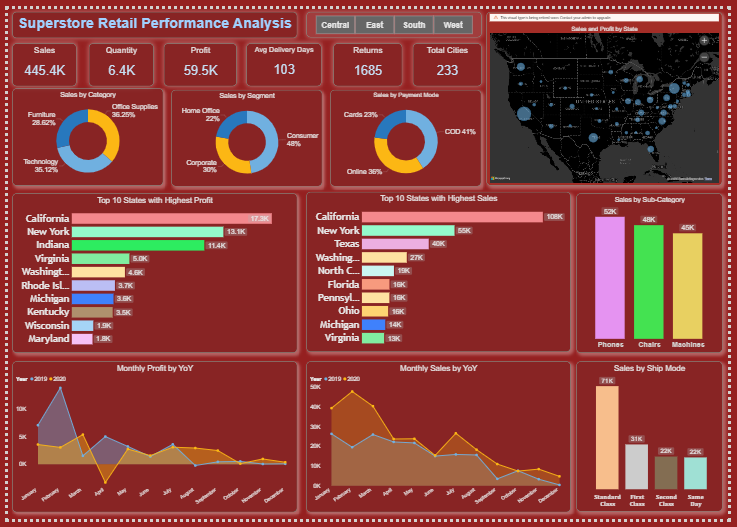

This screenshot's page, from the dashboard's own definition file:
{"tool":"powerbi","page":{"name":"Dashboard","canvas":[2400,1700],"ordinal":0},"visuals":[{"type":"donutChart","title":"Sales by Category","fields":{"Category":["SuperStore_Sales_Dataset.Category"],"Y":["Sum(SuperStore_Sales_Dataset.Sales)"]},"box":[15.8,265.4,501.9,323.2],"z":0},{"type":"clusteredColumnChart","title":"Sales by Sub-Category","fields":{"Category":["SuperStore_Sales_Dataset.Sub-Category"],"Y":["Sum(SuperStore_Sales_Dataset.Sales)"]},"box":[1894.4,614.8,486.1,530.8],"z":1000},{"type":"clusteredColumnChart","title":"Sales by Ship Mode","fields":{"Category":["SuperStore_Sales_Dataset.Ship Mode"],"Y":["Sum(SuperStore_Sales_Dataset.Sales)"]},"box":[1894.4,1174.5,486.1,499.2],"z":2000},{"type":"areaChart","title":"Monthly Sales by YoY ","fields":{"Y":["Sum(SuperStore_Sales_Dataset.Sales)"],"Category":["SuperStore_Sales_Dataset.Order Date.Variation.Date Hierarchy.Month","SuperStore_Sales_Dataset.Order Date.Variation.Date Hierarchy.Day"],"Series":["SuperStore_Sales_Dataset.Order Date.Variation.Date Hierarchy.Year"]},"box":[993.2,1174.5,880.2,501.9],"z":3000},{"type":"areaChart","title":"Monthly Profit by YoY ","fields":{"Category":["SuperStore_Sales_Dataset.Order Date.Variation.Date Hierarchy.Month","SuperStore_Sales_Dataset.Order Date.Variation.Date Hierarchy.Day"],"Series":["SuperStore_Sales_Dataset.Order Date.Variation.Date Hierarchy.Year"],"Y":["Sum(SuperStore_Sales_Dataset.Profit)"]},"box":[15.8,1174.5,948.5,501.9],"z":4000},{"type":"map","title":"Sales and Profit by State","fields":{"Category":["SuperStore_Sales_Dataset.State"],"Size":["Sum(SuperStore_Sales_Dataset.Sales)"]},"box":[1594.9,10.5,785.6,578.1],"z":5000},{"type":"donutChart","title":"Sales by Segment","fields":{"Category":["SuperStore_Sales_Dataset.Segment"],"Y":["Sum(SuperStore_Sales_Dataset.Sales)"]},"box":[543.9,268,501.9,320.6],"z":6000},{"type":"donutChart","title":"Sales by Payment Mode","fields":{"Category":["SuperStore_Sales_Dataset.Payment Mode"],"Y":["Sum(SuperStore_Sales_Dataset.Sales)"]},"box":[1074.7,268,501.9,320.6],"z":7000},{"type":"slicer","fields":{"Values":["SuperStore_Sales_Dataset.Region"]},"box":[993.2,10.5,583.3,84.1],"z":8000},{"type":"textbox","box":[15.8,10.5,948.5,86.7],"z":9000},{"type":"card","title":"Sales","fields":{"Values":["Sum(SuperStore_Sales_Dataset.Sales)"]},"box":[15.8,115.6,212.8,141.9],"z":10000},{"type":"card","title":"Quantity","fields":{"Values":["Sum(SuperStore_Sales_Dataset.Quantity)"]},"box":[268,115.6,215.5,141.9],"z":11000},{"type":"card","title":"Profit","fields":{"Values":["Sum(SuperStore_Sales_Dataset.Profit)"]},"box":[517.6,115.6,241.7,141.9],"z":12000},{"type":"card","title":"Avg Delivery Days","fields":{"Values":["Avg(SuperStore_Sales_Dataset.AvgDelivery)"]},"box":[796.1,115.6,249.6,141.9],"z":13000},{"type":"card","title":"Returns","fields":{"Values":["CountNonNull(SuperStore_Sales_Dataset.Returns)"]},"box":[1085.2,115.6,228.6,141.9],"z":14000},{"type":"card","title":"Total Cities","fields":{"Values":["Count(SuperStore_Sales_Dataset.City)"]},"box":[1347.9,115.6,228.6,141.9],"z":15000},{"type":"clusteredBarChart","title":"Top 10 States with Highest Sales","fields":{"Category":["SuperStore_Sales_Dataset.State"],"Y":["Sum(SuperStore_Sales_Dataset.Sales)"]},"box":[993.2,611.7,879.8,532.7],"z":16000},{"type":"clusteredBarChart","title":"Top 10 States with Highest Profit ","fields":{"Category":["SuperStore_Sales_Dataset.State"],"Y":["Sum(SuperStore_Sales_Dataset.Profit)"]},"box":[15.8,614.8,948.5,530.8],"z":17000}]}

Visuals, with their boxes in screenshot pixels (x1, y1, x2, y2), scaled from the page's 2400x1700 canvas onto the 737x527 screenshot:
"Sales by Category" donutChart: [left=5, top=82, right=159, bottom=182]
"Sales by Sub-Category" clusteredColumnChart: [left=582, top=191, right=731, bottom=355]
"Sales by Ship Mode" clusteredColumnChart: [left=582, top=364, right=731, bottom=519]
"Monthly Sales by YoY " areaChart: [left=305, top=364, right=575, bottom=520]
"Monthly Profit by YoY " areaChart: [left=5, top=364, right=296, bottom=520]
"Sales and Profit by State" map: [left=490, top=3, right=731, bottom=182]
"Sales by Segment" donutChart: [left=167, top=83, right=321, bottom=182]
"Sales by Payment Mode" donutChart: [left=330, top=83, right=484, bottom=182]
slicer - SuperStore_Sales_Dataset.Region: [left=305, top=3, right=484, bottom=29]
textbox: [left=5, top=3, right=296, bottom=30]
"Sales" card: [left=5, top=36, right=70, bottom=80]
"Quantity" card: [left=82, top=36, right=148, bottom=80]
"Profit" card: [left=159, top=36, right=233, bottom=80]
"Avg Delivery Days" card: [left=244, top=36, right=321, bottom=80]
"Returns" card: [left=333, top=36, right=403, bottom=80]
"Total Cities" card: [left=414, top=36, right=484, bottom=80]
"Top 10 States with Highest Sales" clusteredBarChart: [left=305, top=190, right=575, bottom=355]
"Top 10 States with Highest Profit " clusteredBarChart: [left=5, top=191, right=296, bottom=355]
